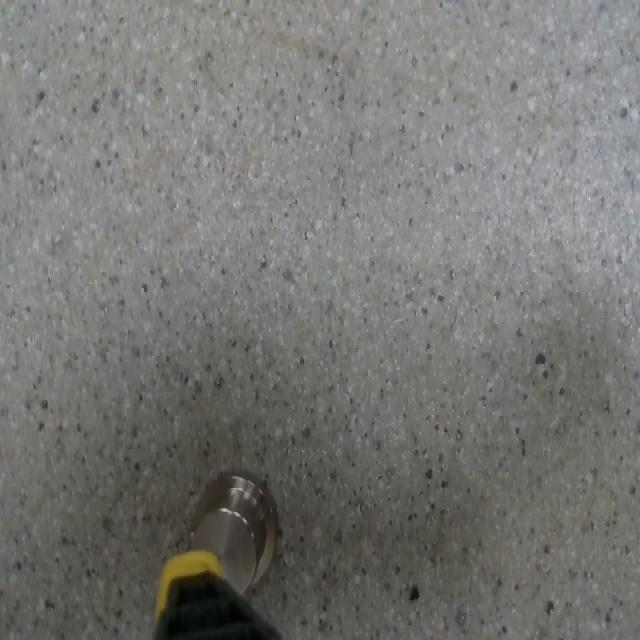sensor: (182, 467, 282, 600)
